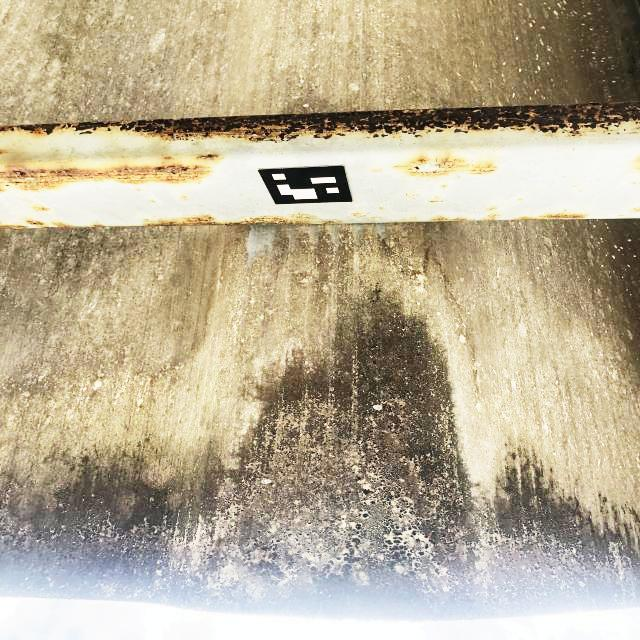Corrosion: (0, 101, 640, 145), (0, 155, 215, 195), (130, 210, 318, 227), (391, 155, 501, 179), (513, 212, 588, 220), (24, 219, 82, 228), (0, 219, 29, 229), (429, 215, 472, 221), (195, 154, 219, 162), (30, 204, 51, 213), (402, 189, 418, 199), (633, 156, 639, 172), (483, 214, 497, 220), (350, 212, 363, 218), (629, 206, 640, 213), (0, 149, 9, 156), (178, 195, 188, 201), (92, 223, 106, 227), (485, 205, 496, 210), (428, 200, 443, 203), (441, 185, 447, 189), (374, 169, 379, 173), (151, 200, 156, 203), (135, 189, 140, 191), (633, 182, 636, 184)
